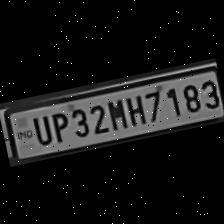1: (158, 83, 183, 120)
2: (83, 100, 108, 136)
3: (195, 74, 222, 111), (64, 104, 90, 140)
7: (138, 86, 165, 124)
8: (176, 80, 202, 116)
H: (122, 92, 146, 128)
M: (102, 95, 128, 132)
P: (44, 107, 70, 144)
U: (26, 112, 52, 148)
